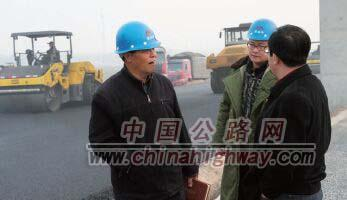helmet: (115, 19, 161, 56), (250, 19, 277, 42)
